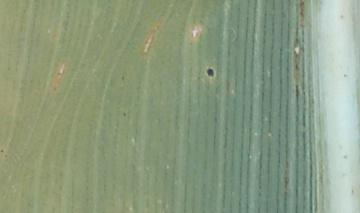tarspot: (205, 67, 215, 79), (341, 71, 349, 79), (121, 110, 128, 118), (337, 12, 344, 20), (119, 74, 125, 82), (1, 147, 5, 155)
